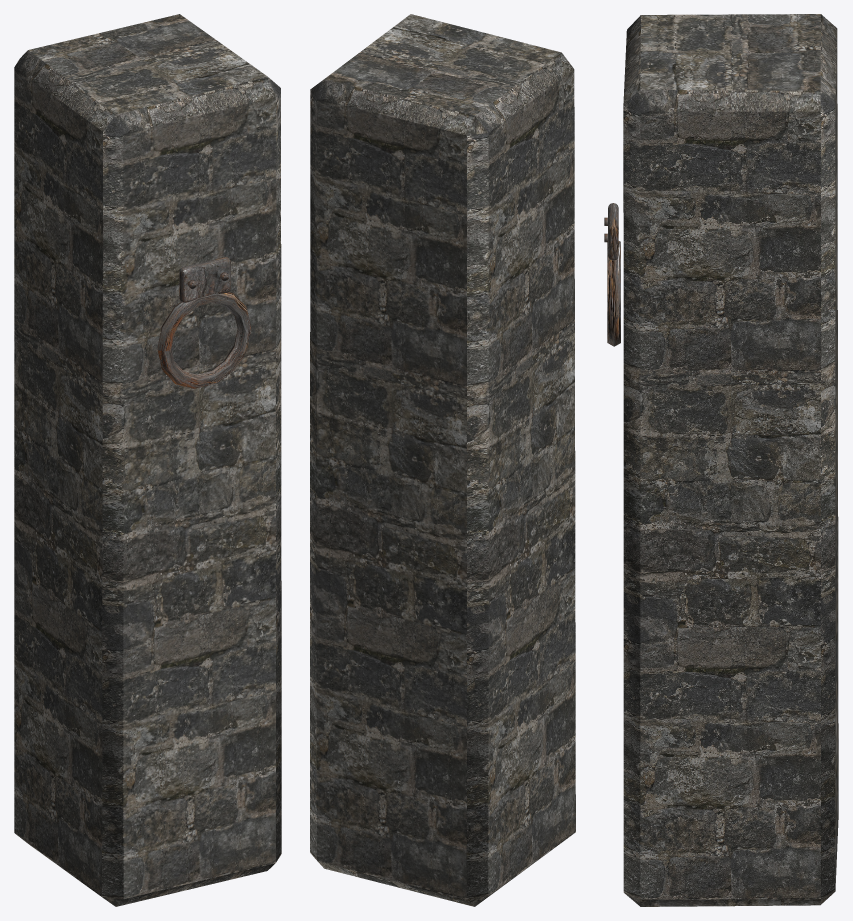
Rendered from tunnel-marker-v02.glb.
The picture shows the model from 3 angles, left to right: view 1: azimuth 30°, elevation 25°; view 2: azimuth 150°, elevation 25°; view 3: azimuth 270°, elevation 25°; orthographic projection. The views are drawn at different scales.
Parts seen in each view (by area): view 1: tunnel-marker review clean face, Review tunnel marker ring anchor plate; view 2: tunnel-marker review clean face; view 3: tunnel-marker review clean face, Review tunnel marker ring anchor plate.
Part boxes in pixels (x1=…): tunnel-marker review clean face: x1=14, y1=14, x2=281, y2=906; Review tunnel marker ring anchor plate: x1=179, y1=257, x2=230, y2=302; tunnel-marker review clean face: x1=310, y1=14, x2=575, y2=906; tunnel-marker review clean face: x1=607, y1=14, x2=838, y2=906; Review tunnel marker ring anchor plate: x1=608, y1=203, x2=618, y2=260.
Bounding box in the file's own units: 0.4031 × 1.7 × 0.4423.
2 materials, 2 textured.
